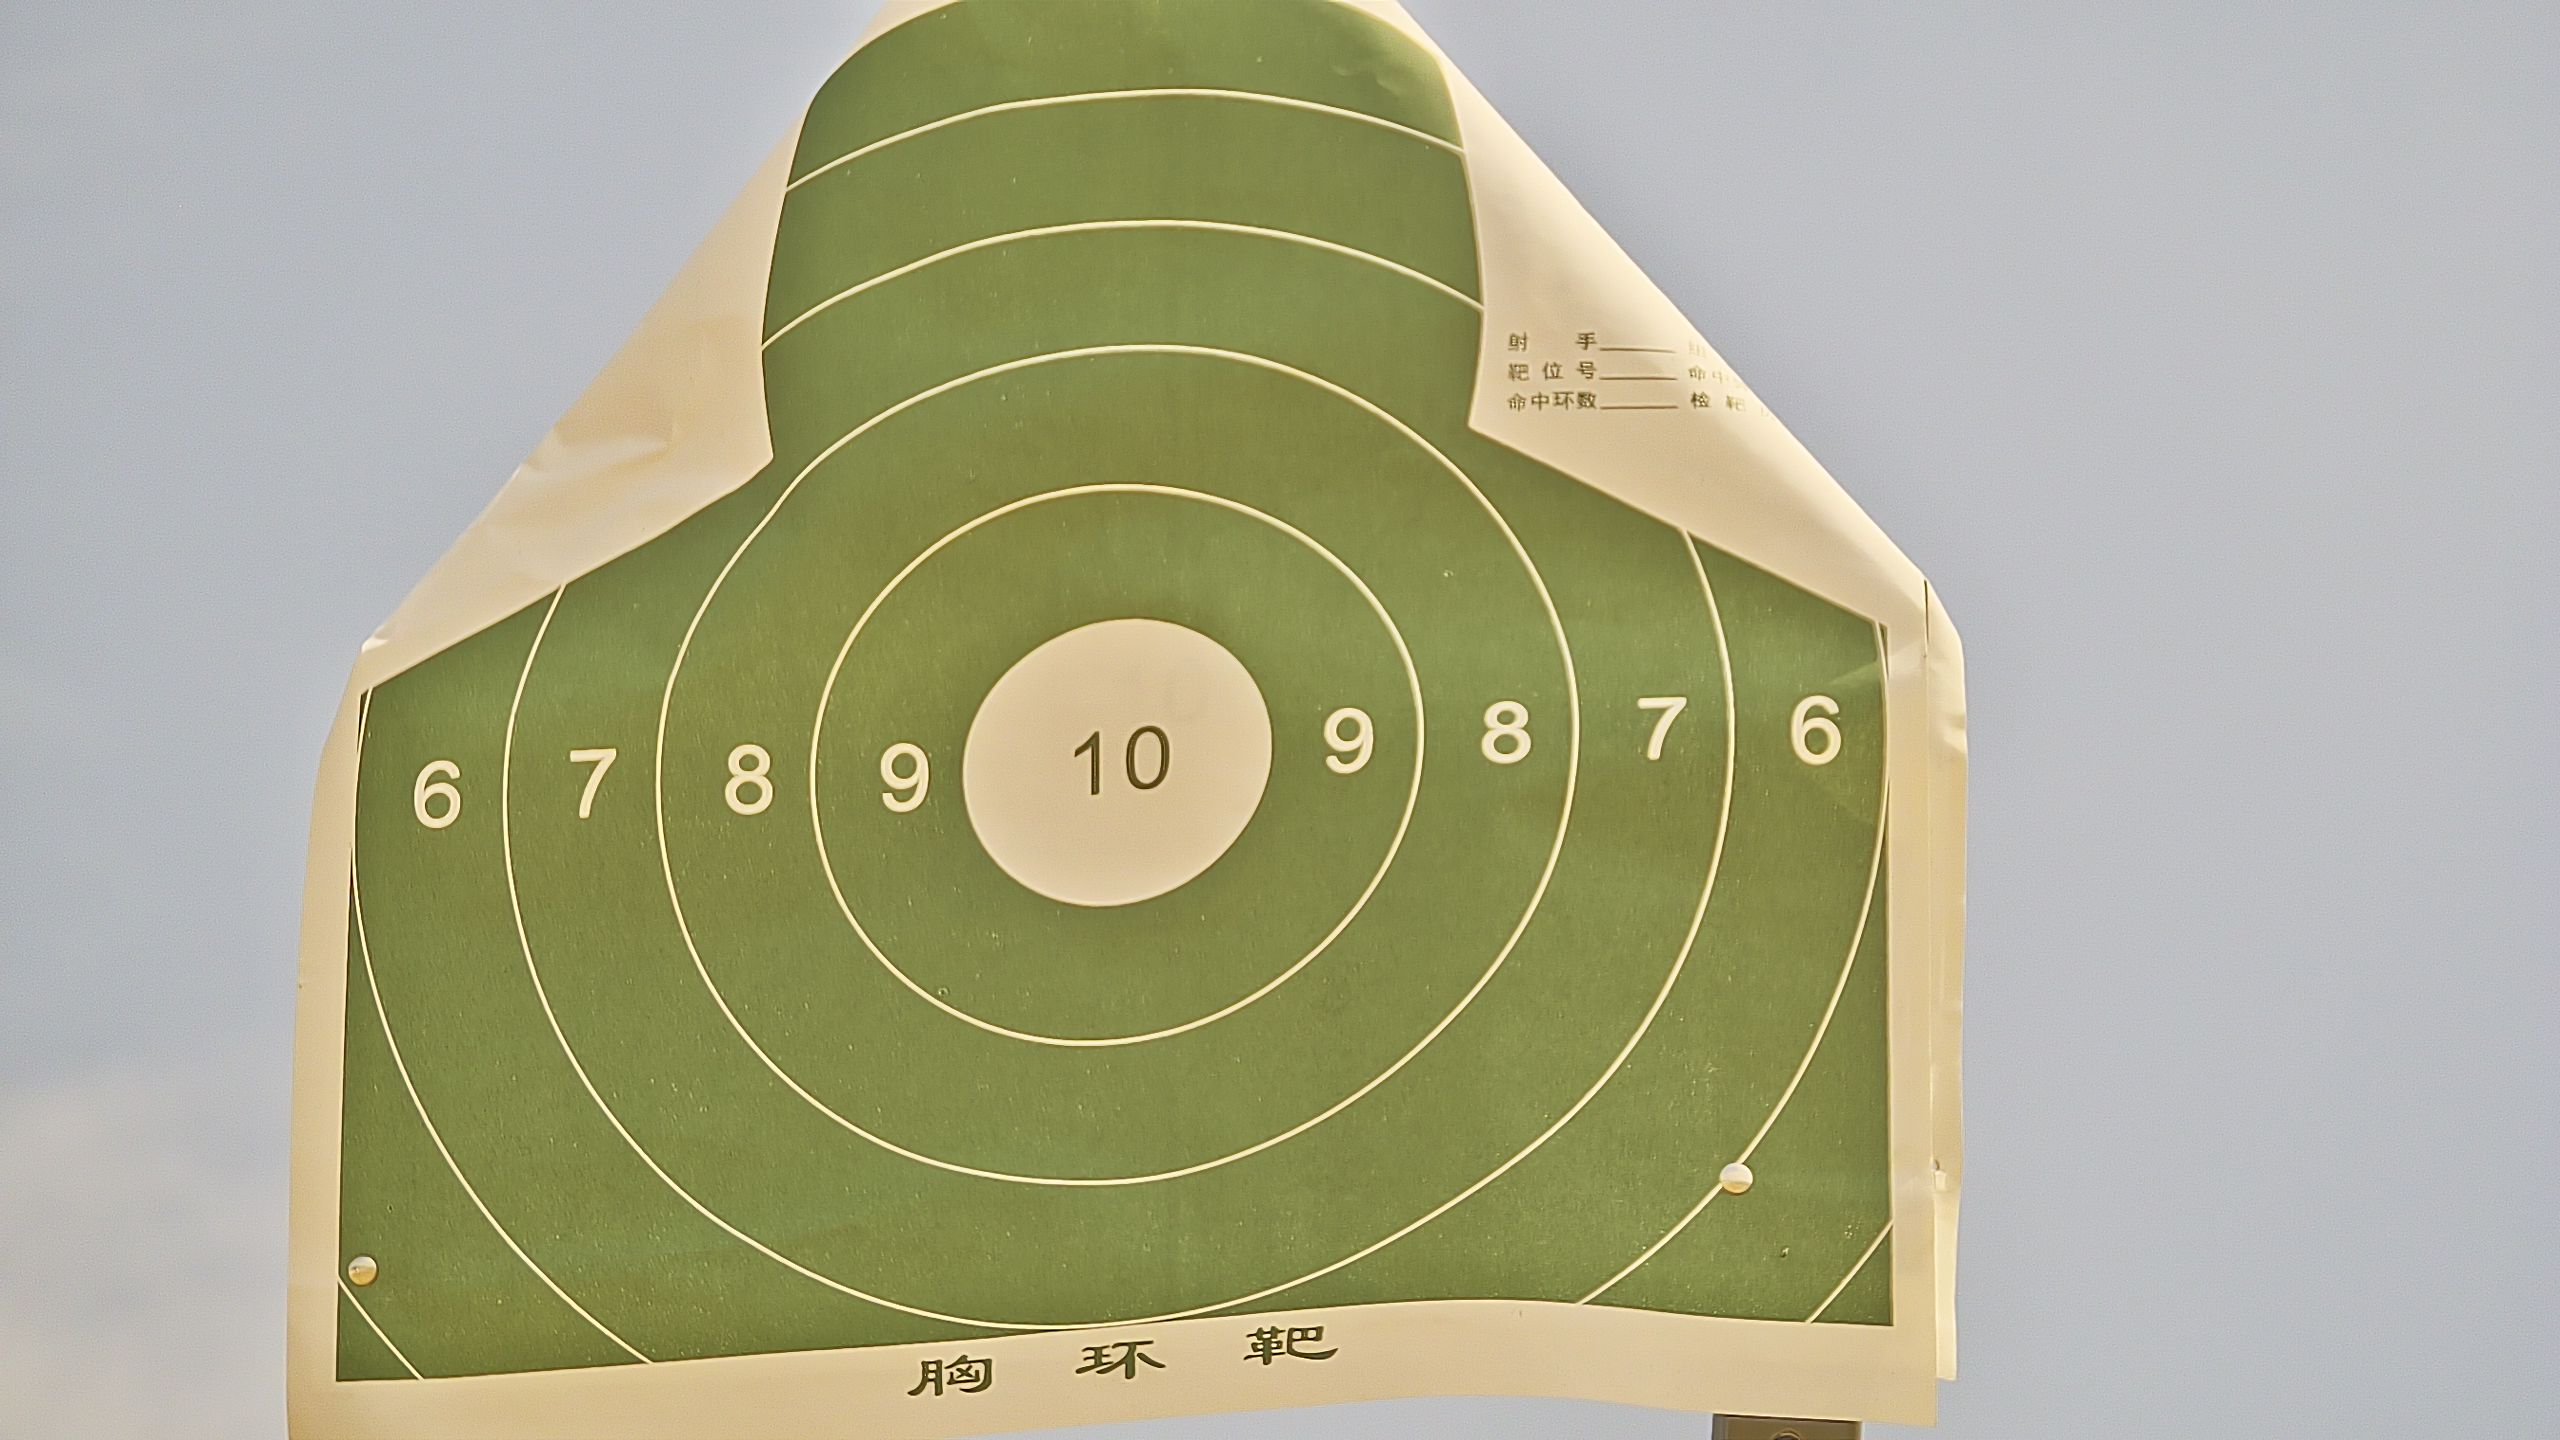kernel: (1109, 761, 1111, 763)
target: (325, 2, 1902, 1385)
ten: (956, 617, 1273, 911)
